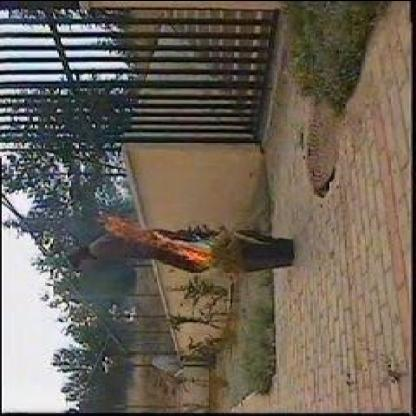foggia-v2-map80-epoch100 - v1 4323: (107, 216, 216, 268)
